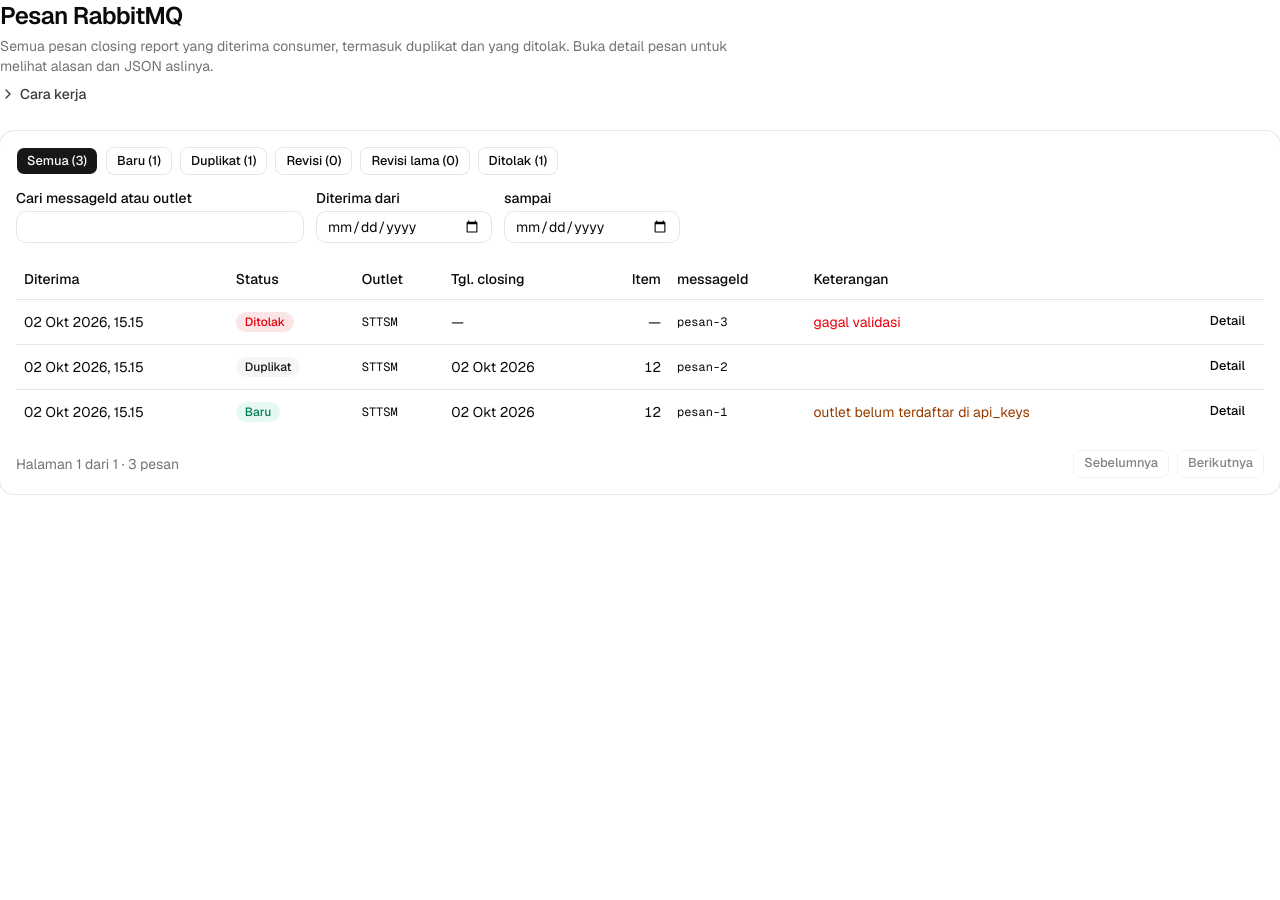
Scenario: ClosingMessagesView — detail › menampilkan error validasi dan JSON asli
What coordinates should you click on to do the following:
click the button "Detail" in the row of "pesan-3"
I would click on:
 (1227, 322)
Its box is x1=1199 y1=308 x2=1256 y2=336.
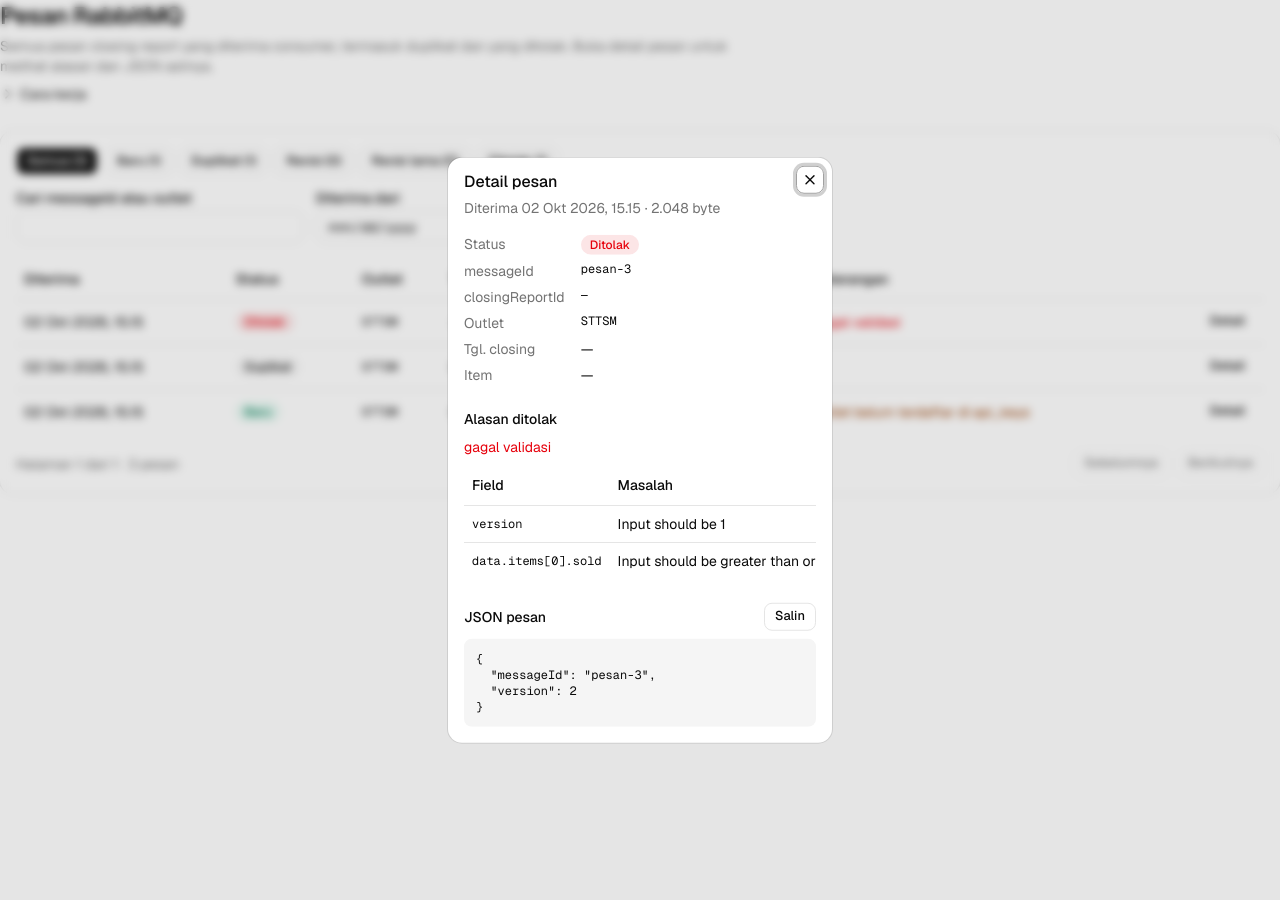
Result: the text "version" is shown at x1=464 y1=505 x2=610 y2=542
Result: the text "Input should be 1" is shown at x1=610 y1=505 x2=816 y2=542
Result: the text "data.items[0].sold" is shown at x1=464 y1=542 x2=610 y2=578
